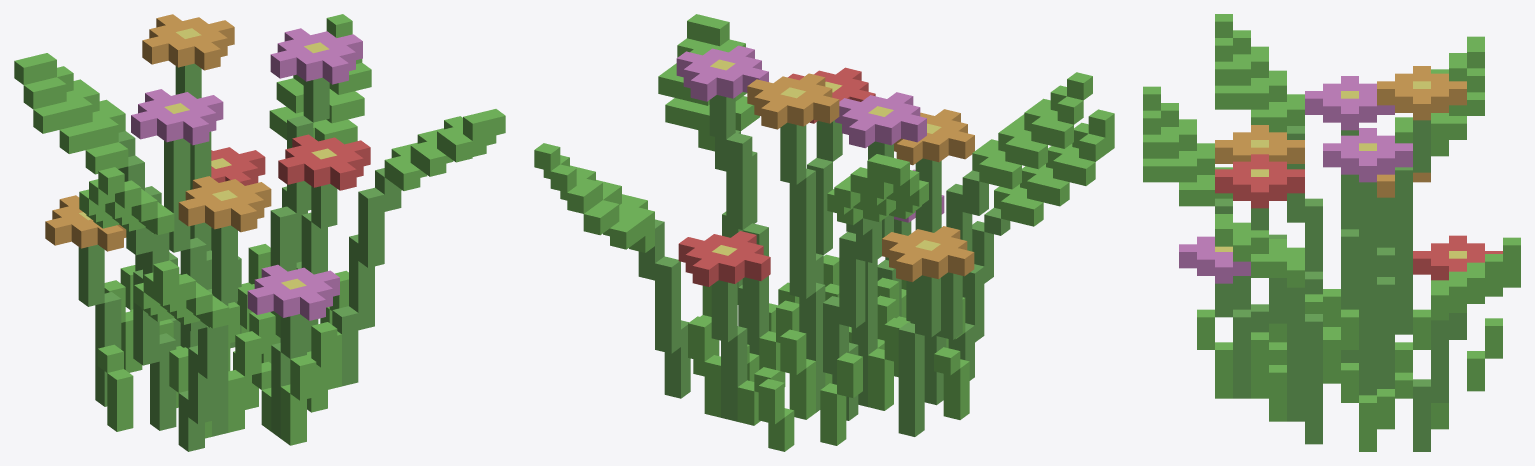
Rendered from Grass_e_v1.fbx.
3 renders of one model, left to right at view 1: azimuth 30°, elevation 25°; view 2: azimuth 150°, elevation 25°; view 3: azimuth 270°, elevation 25°, orthographic. The views are drawn at different scales.
Visible parts, largest first — view 1: grass_e; view 2: grass_e; view 3: grass_e.
Part boxes in pixels (<box>): grass_e: <box>14,14,505,451</box>; grass_e: <box>534,14,1114,451</box>; grass_e: <box>1143,14,1520,451</box>.
Bounding box in the file's own units: 24 × 19 × 21.
